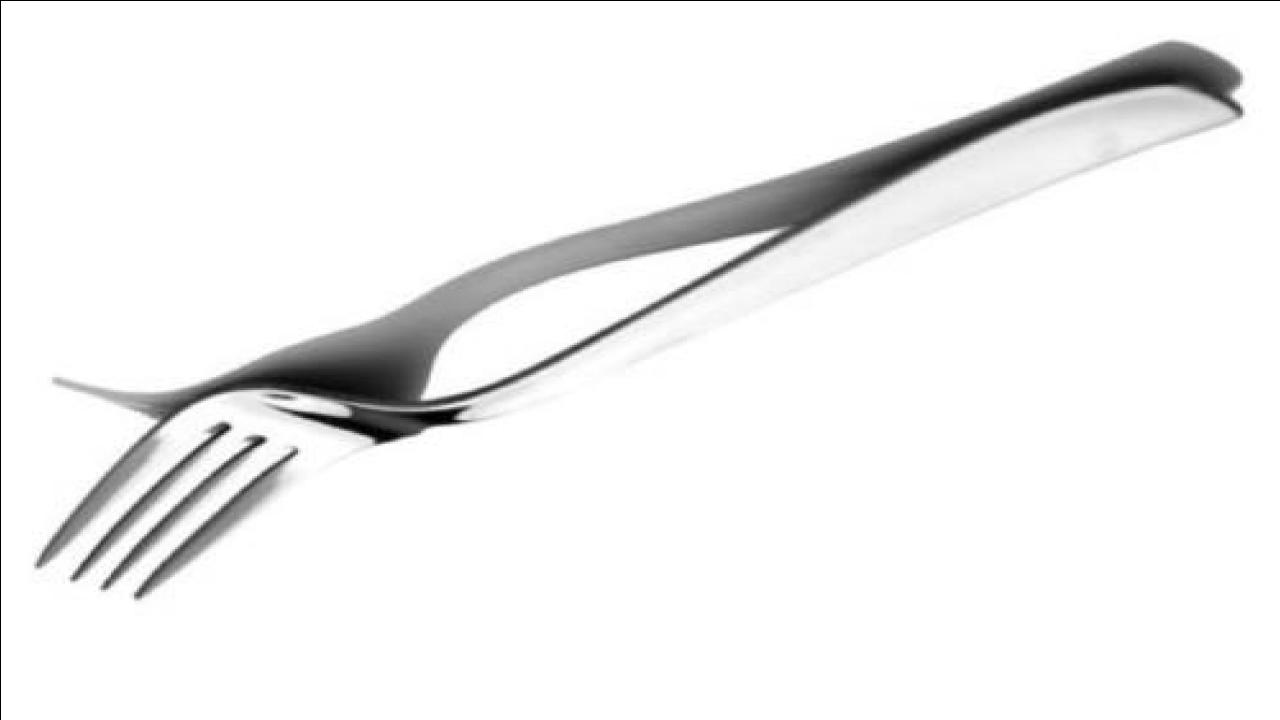fork: (33, 78, 1244, 604)
